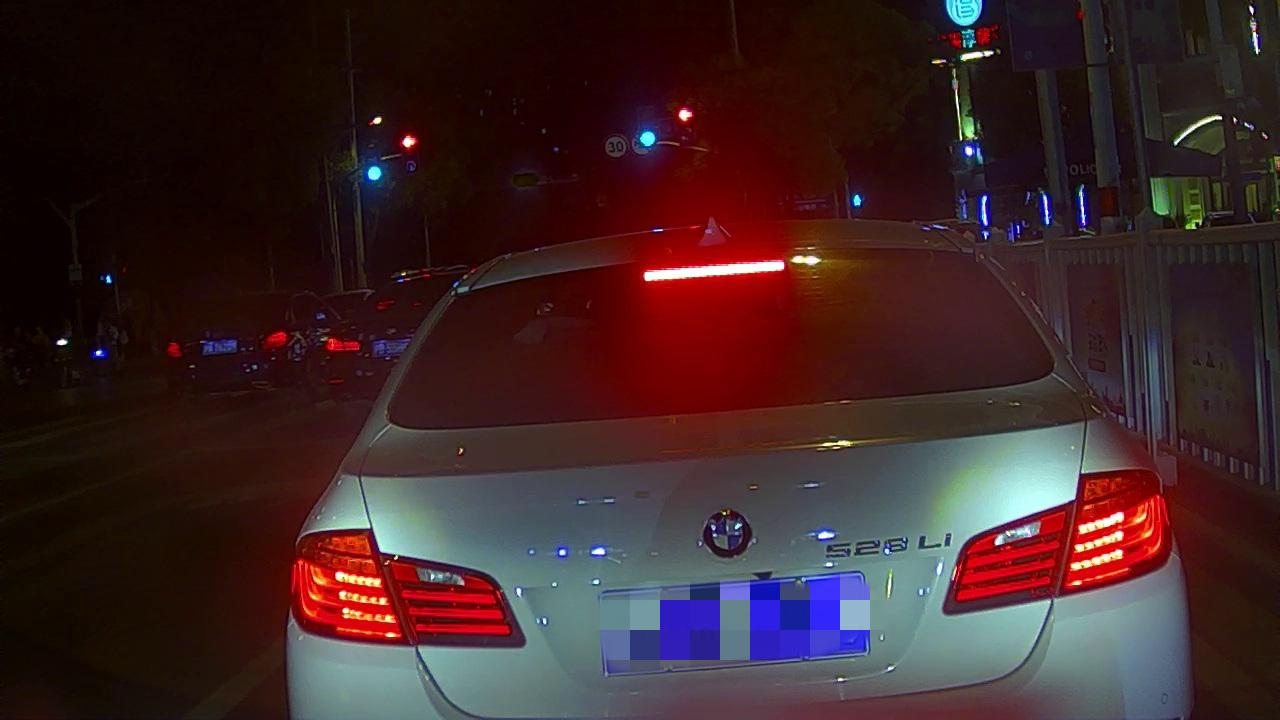traffic_light: (396, 128, 420, 154), (361, 162, 385, 185), (636, 127, 659, 151), (673, 103, 696, 126)
